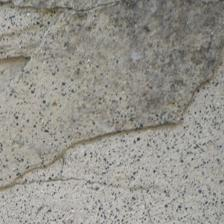Crack: (4, 121, 178, 191), (172, 54, 223, 125), (1, 2, 118, 18)
